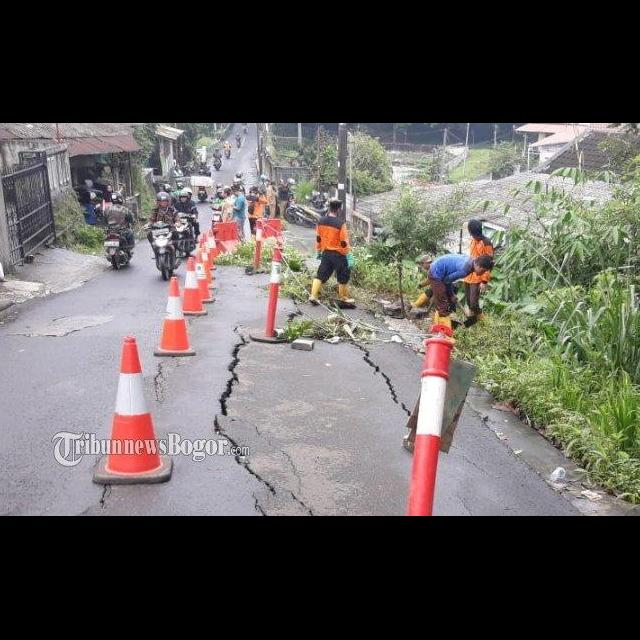retak_memanjang: (205, 319, 263, 516), (345, 338, 409, 415), (147, 358, 168, 407)
